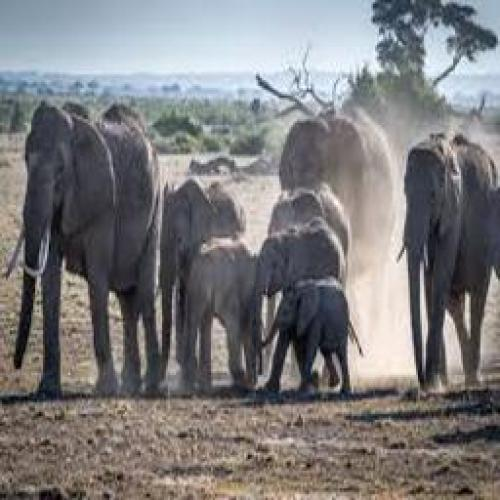african_elephant-endangered: (15, 103, 164, 395), (283, 111, 399, 355), (402, 127, 500, 396), (177, 238, 263, 393), (160, 180, 246, 286), (269, 285, 352, 388), (255, 222, 345, 292), (272, 184, 349, 244)
